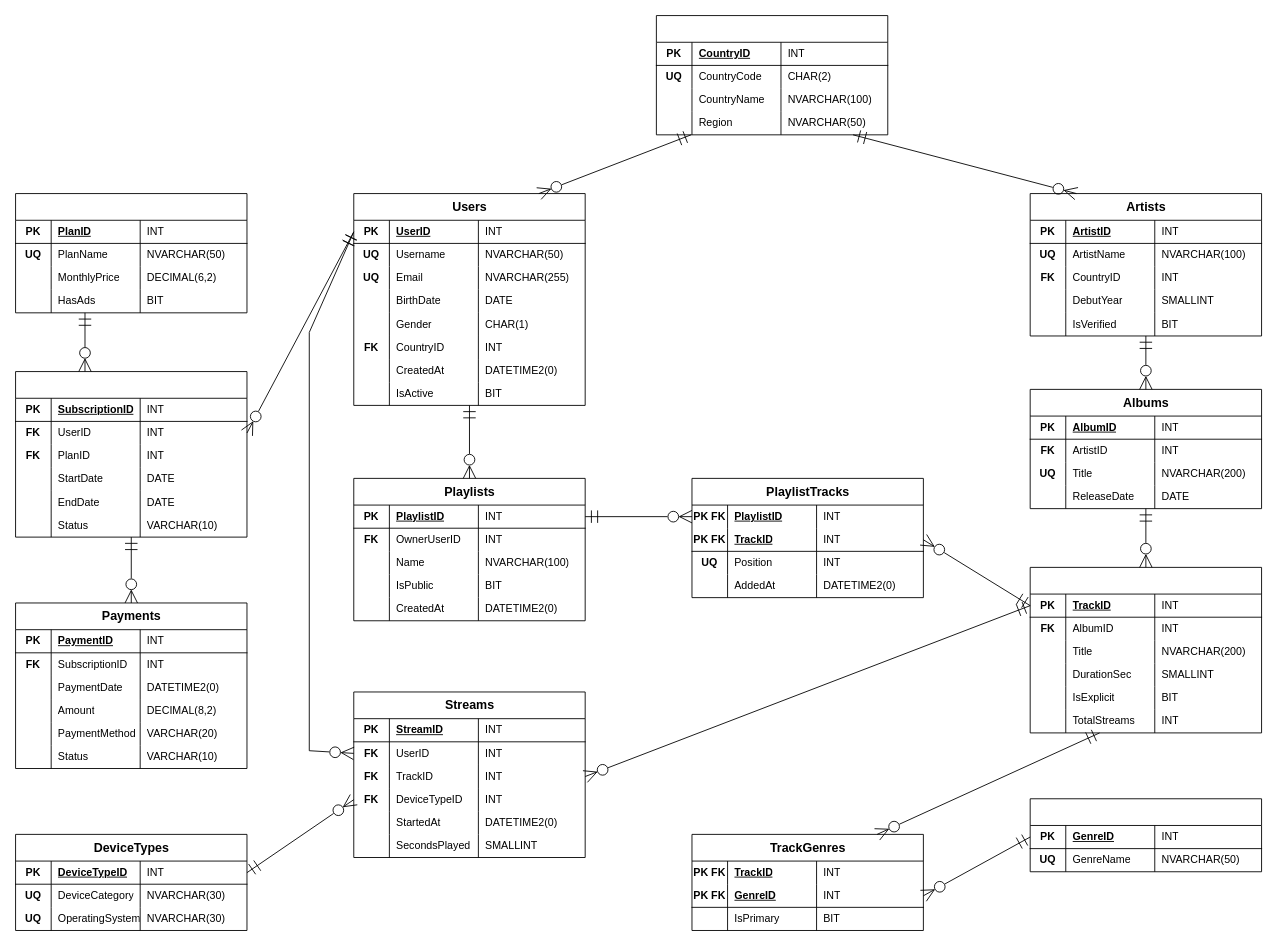
Some shapes in this 1277 by 946 pixel diagram are drawn without their labels. The shapes that lost their labels are listed below. From the top down, each one's box as (x1, y1, x2, y2) in pixels, then its label:
(655, 15, 888, 135): Countries
(15, 193, 247, 313): SubscriptionPlans
(15, 371, 247, 537): Subscriptions
(1029, 566, 1262, 733): Tracks
(1029, 798, 1262, 872): Genres
